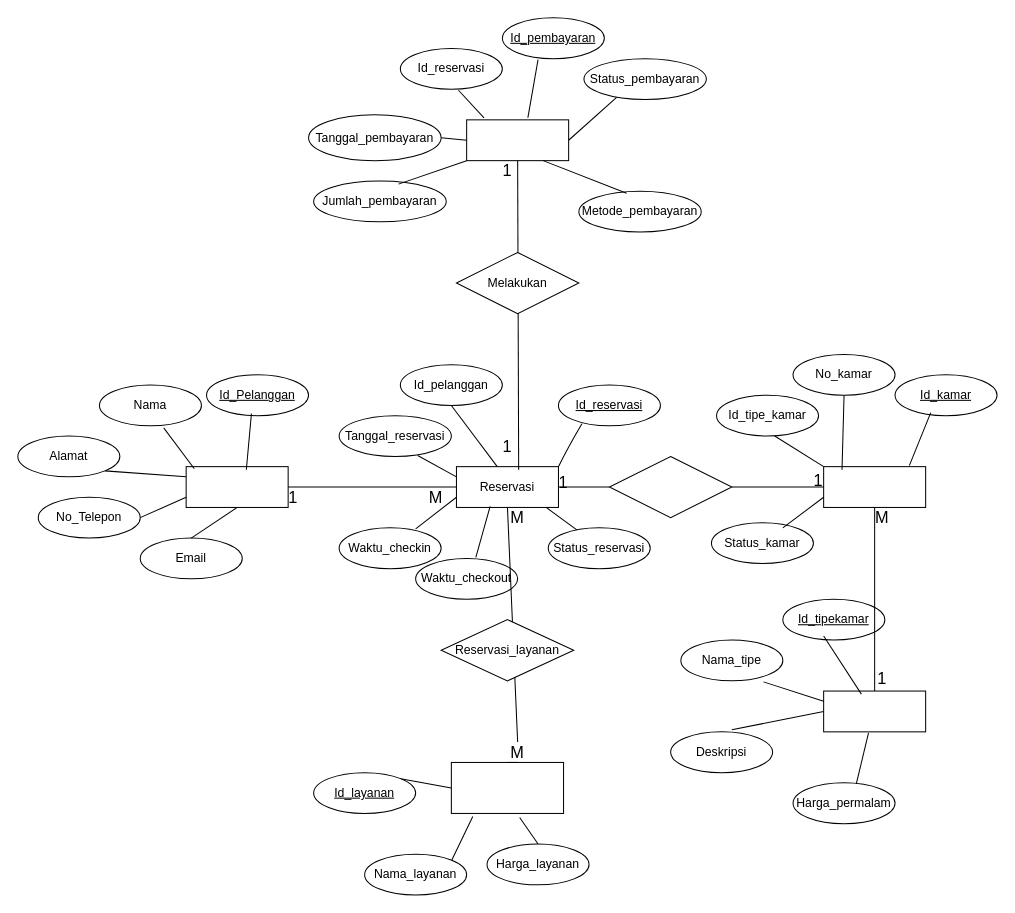
The diagram is 1015 pixels wide and 913 high, and some of its shapes have lost their labels. Each missing label, with the centre of its shape:
Kamar: (874,486)
Layanan_tambahan: (507,787)
Pelanggan: (236,486)
Pembayaran: (517,140)
Reservasi_kamar: (670,486)
Tipe_kamar: (874,711)
